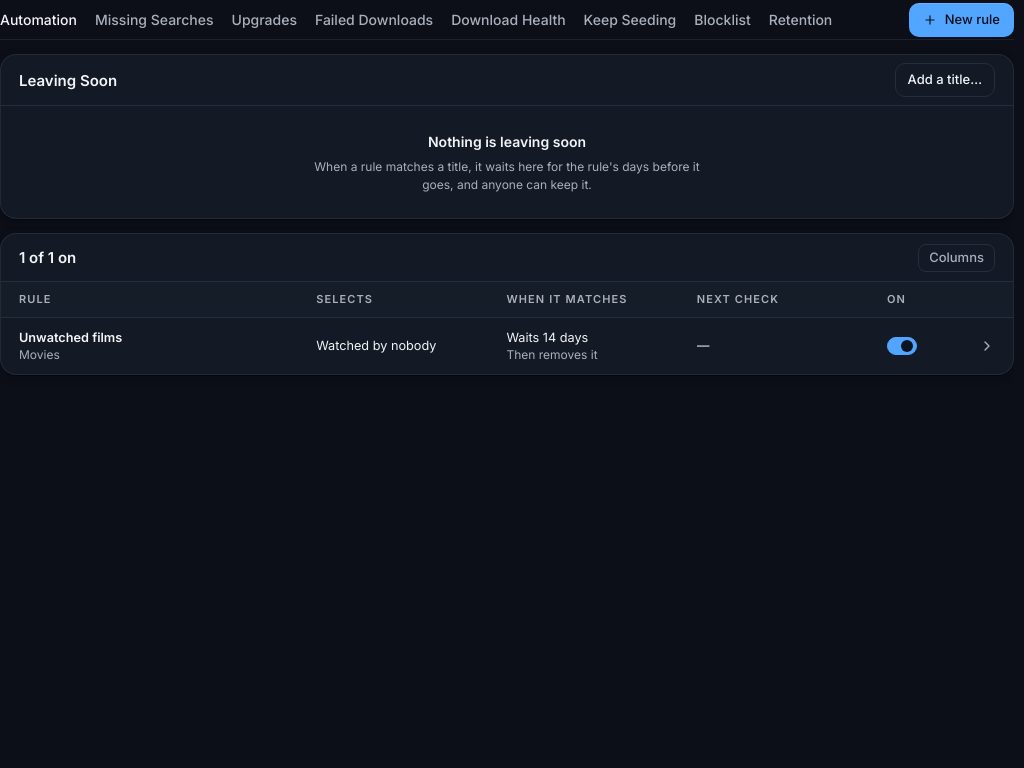
Test case: the rule drawer › lists the last runs labelled Confirmed, Scheduled, Run now or Earlier version, each with its summary
This screenshot has width=1024, height=768.
Click the text "Unwatched films".
click(71, 337)  # box [19,330,122,345]
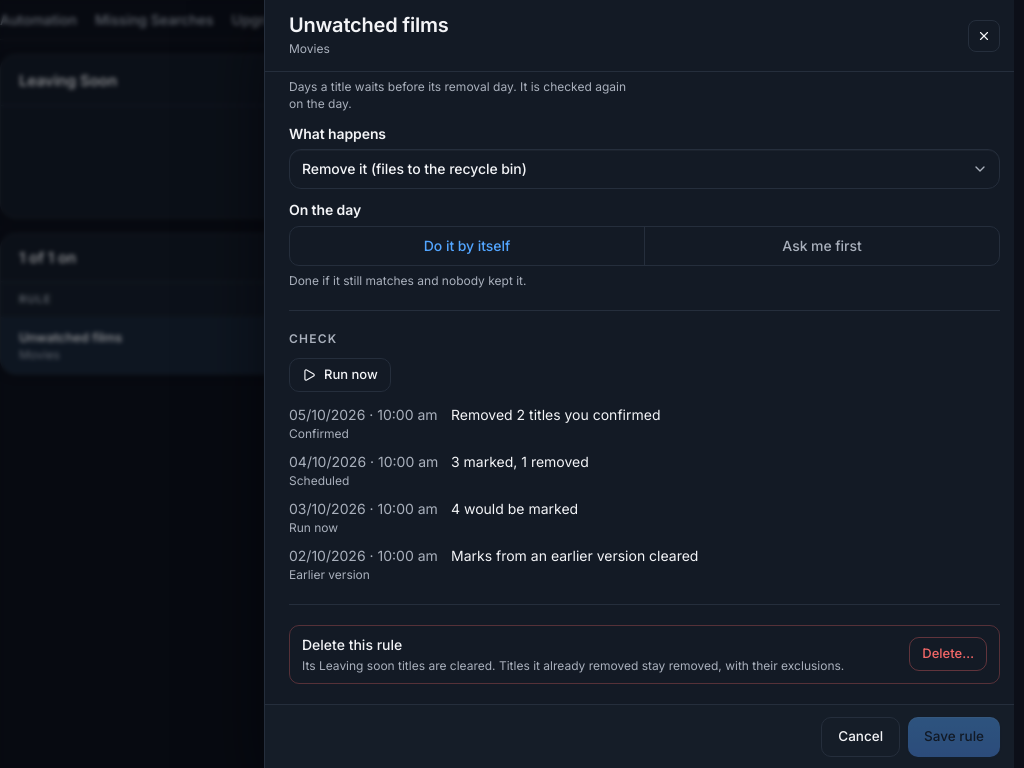
Expected: the text "Removed 2 titles you confirmed" is shown, [451,406,660,423]
